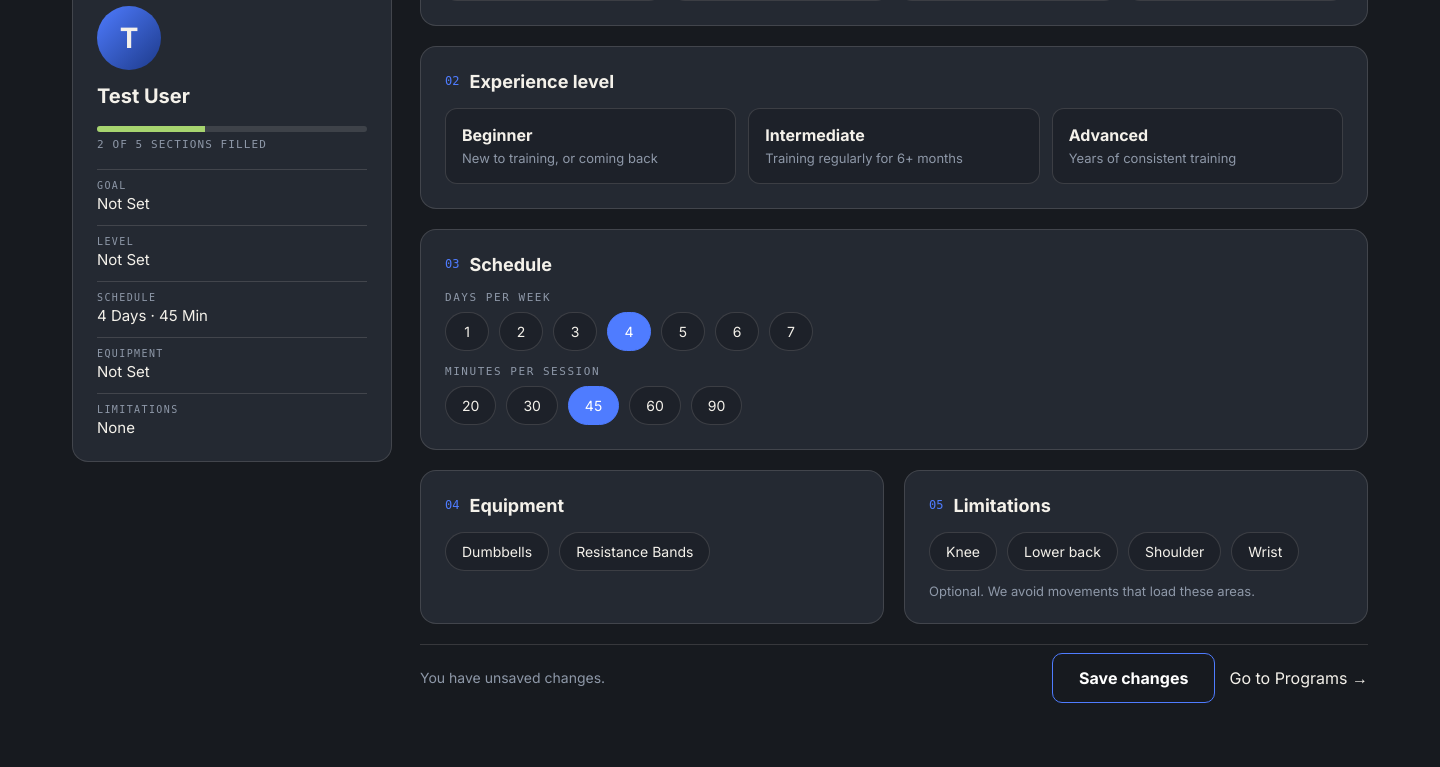
it: Profile Form › displays an error when saving fails
(page scrolled)
Expected: the link "Go to Programs →" is shown, [1229,668,1368,688]
Step 1. Click the button "Save changes" → (1134,678), box [1052,653,1215,703]
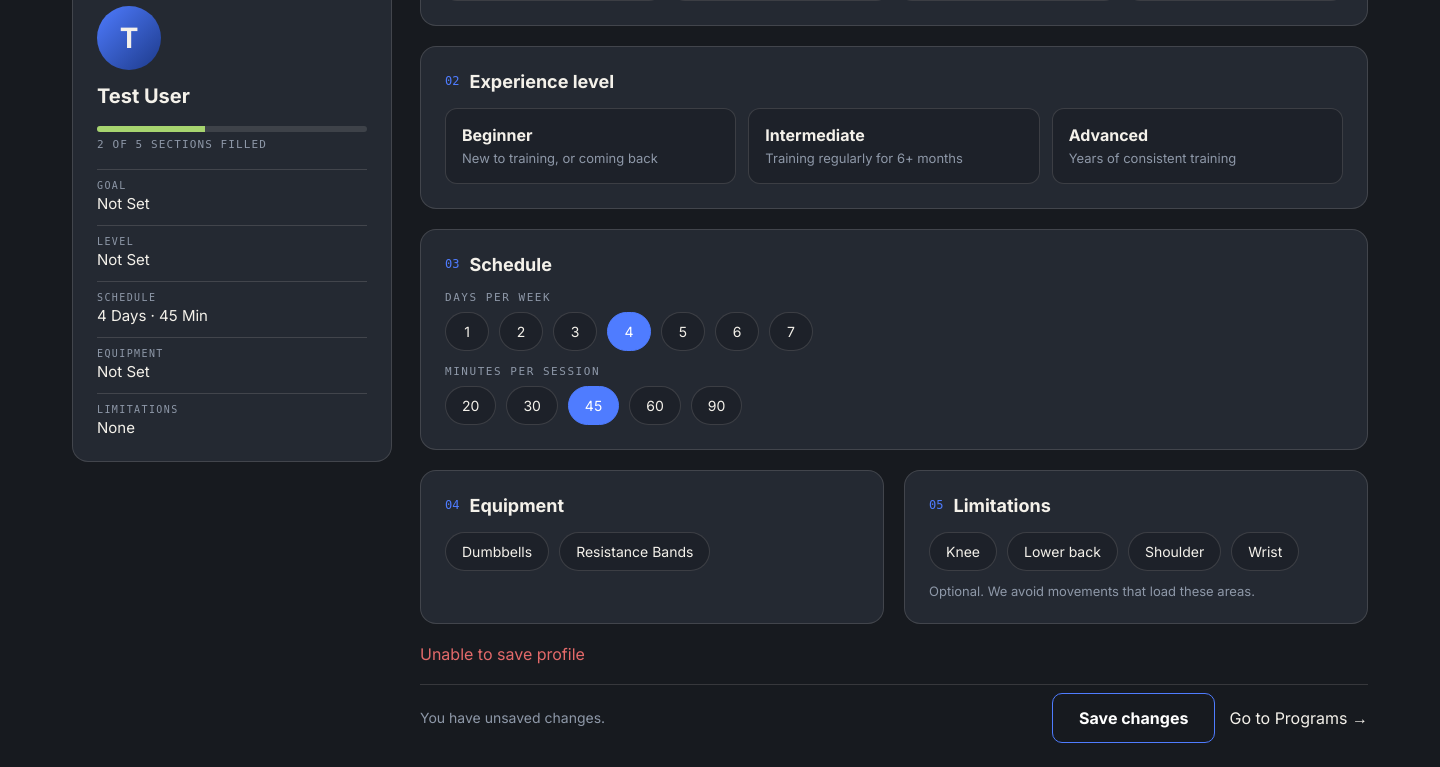
Expected: the message "Unable to save profile" is shown, [420,644,585,664]
